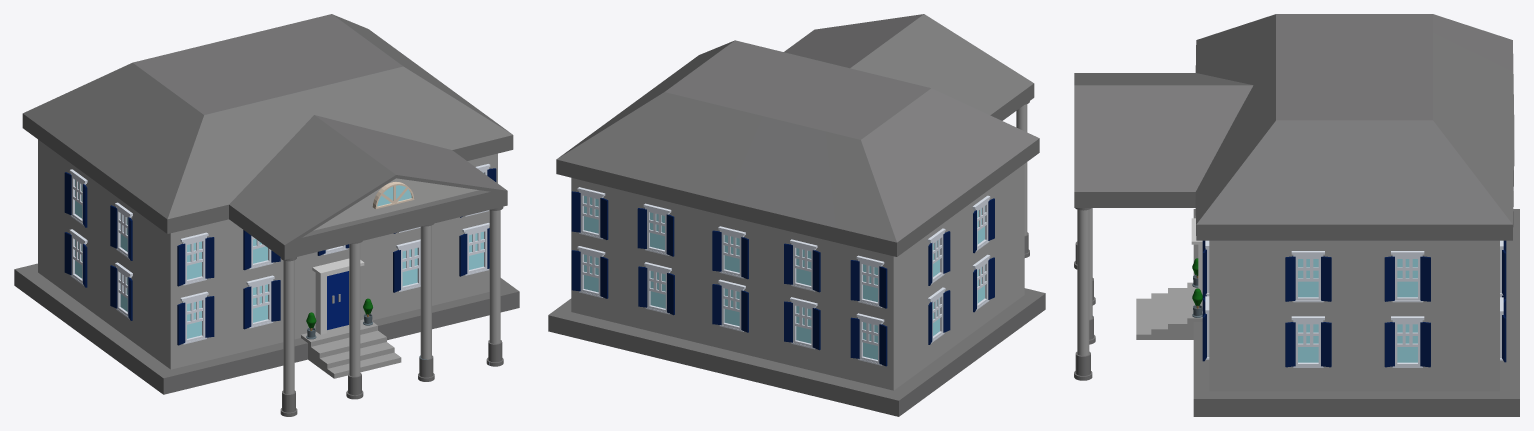
Rendered from GREEK REVIVAL- 1850.fbx.
3 renders of one model, left to right at view 1: azimuth 30°, elevation 25°; view 2: azimuth 150°, elevation 25°; view 3: azimuth 270°, elevation 25°, orthographic. The views are drawn at different scales.
Parts seen in each view (by area): view 1: Cube.004; view 2: Cube.004; view 3: Cube.004.
Boxes of the visible parts, bbox=[...] form: Cube.004: bbox=[14, 14, 519, 416]; Cube.004: bbox=[548, 14, 1045, 416]; Cube.004: bbox=[1074, 14, 1519, 416].
Bounding box in the file's own units: 768 × 480 × 761.
